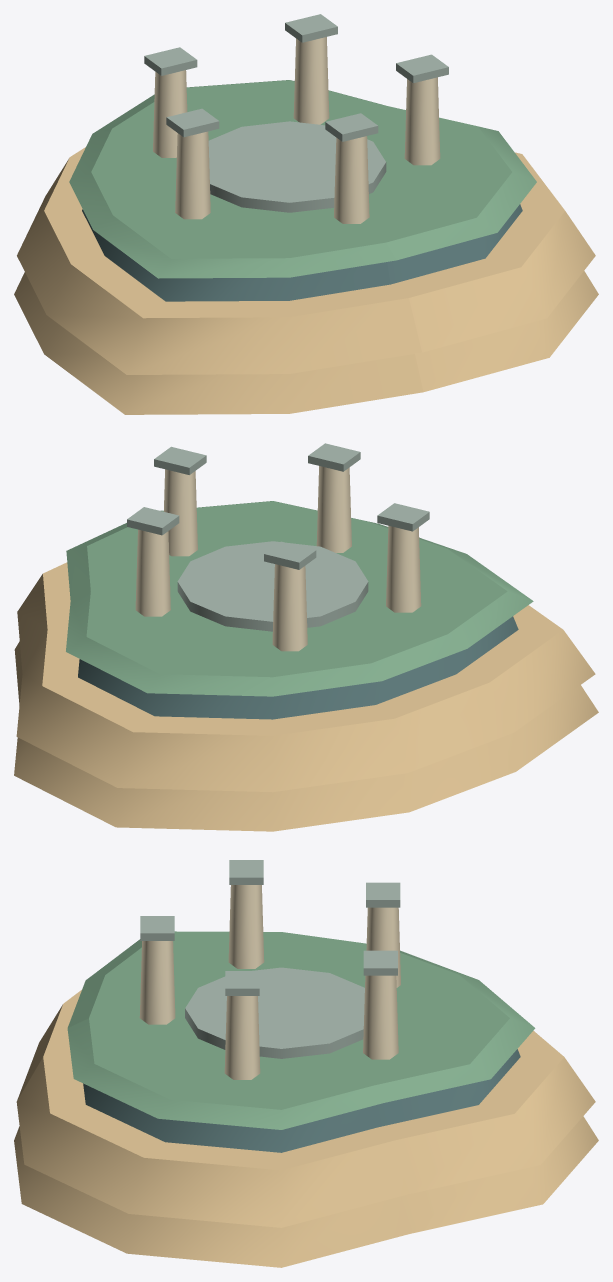
Rendered from island-ruin.glb.
The picture shows the model from 3 angles, top to bottom: view 1: azimuth 30°, elevation 25°; view 2: azimuth 150°, elevation 25°; view 3: azimuth 270°, elevation 25°; orthographic projection.
Visible parts, largest first — view 1: terraced-shore (×4), ruin-colonnade (×5), star-court, ruin-capital (×5); view 2: terraced-shore (×4), ruin-colonnade (×5), star-court, ruin-capital (×5); view 3: terraced-shore (×4), ruin-colonnade (×5), star-court, ruin-capital (×5).
Part boxes in pixels (<box>): terraced-shore (×4): <box>14,80,598,414</box>; ruin-colonnade (×5): <box>153,37,440,223</box>; star-court: <box>208,121,386,212</box>; ruin-capital (×5): <box>144,14,448,141</box>; terraced-shore (×4): <box>14,501,598,831</box>; ruin-colonnade (×5): <box>135,466,421,651</box>; star-court: <box>177,541,368,631</box>; ruin-capital (×5): <box>127,443,429,569</box>; terraced-shore (×4): <box>14,931,598,1267</box>; ruin-colonnade (×5): <box>139,885,400,1079</box>; star-court: <box>185,967,364,1058</box>; ruin-capital (×5): <box>140,860,400,995</box>.
Bounding box in the file's own units: 42.59 × 17.3 × 42.48.
